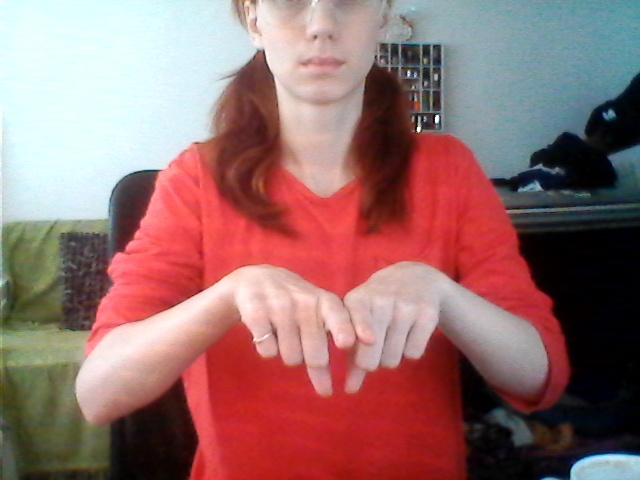sestra: (221, 241, 445, 410)
